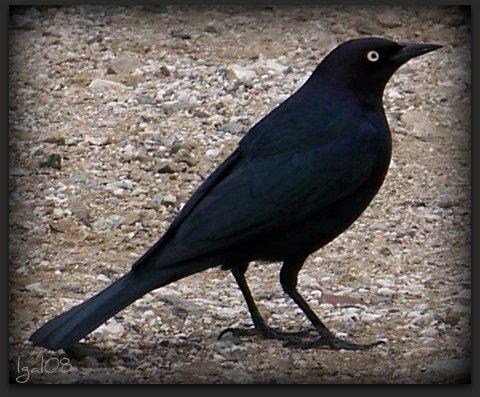009.Brewer_Blackbird: (29, 38, 448, 355)
